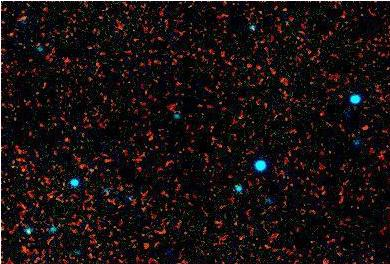star: (351, 112, 381, 142)
